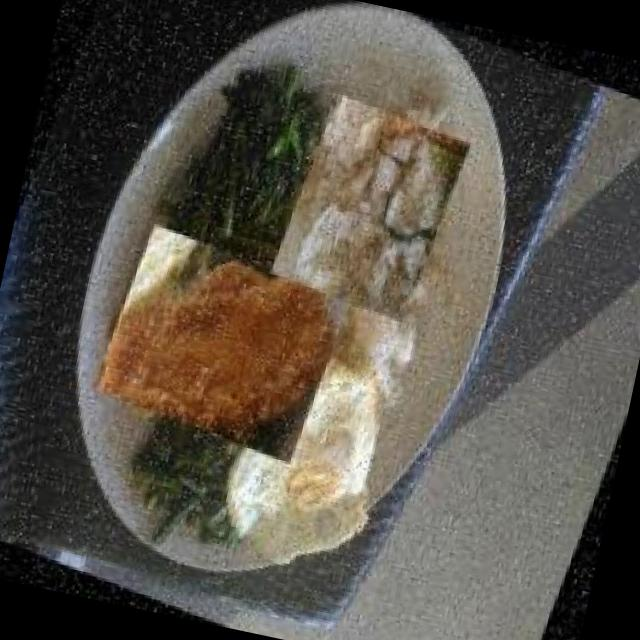fried_chicken: (84, 218, 360, 470)
fried_eggs: (203, 336, 409, 590)
rice: (263, 87, 477, 331)
water_spinach: (174, 57, 340, 272)
